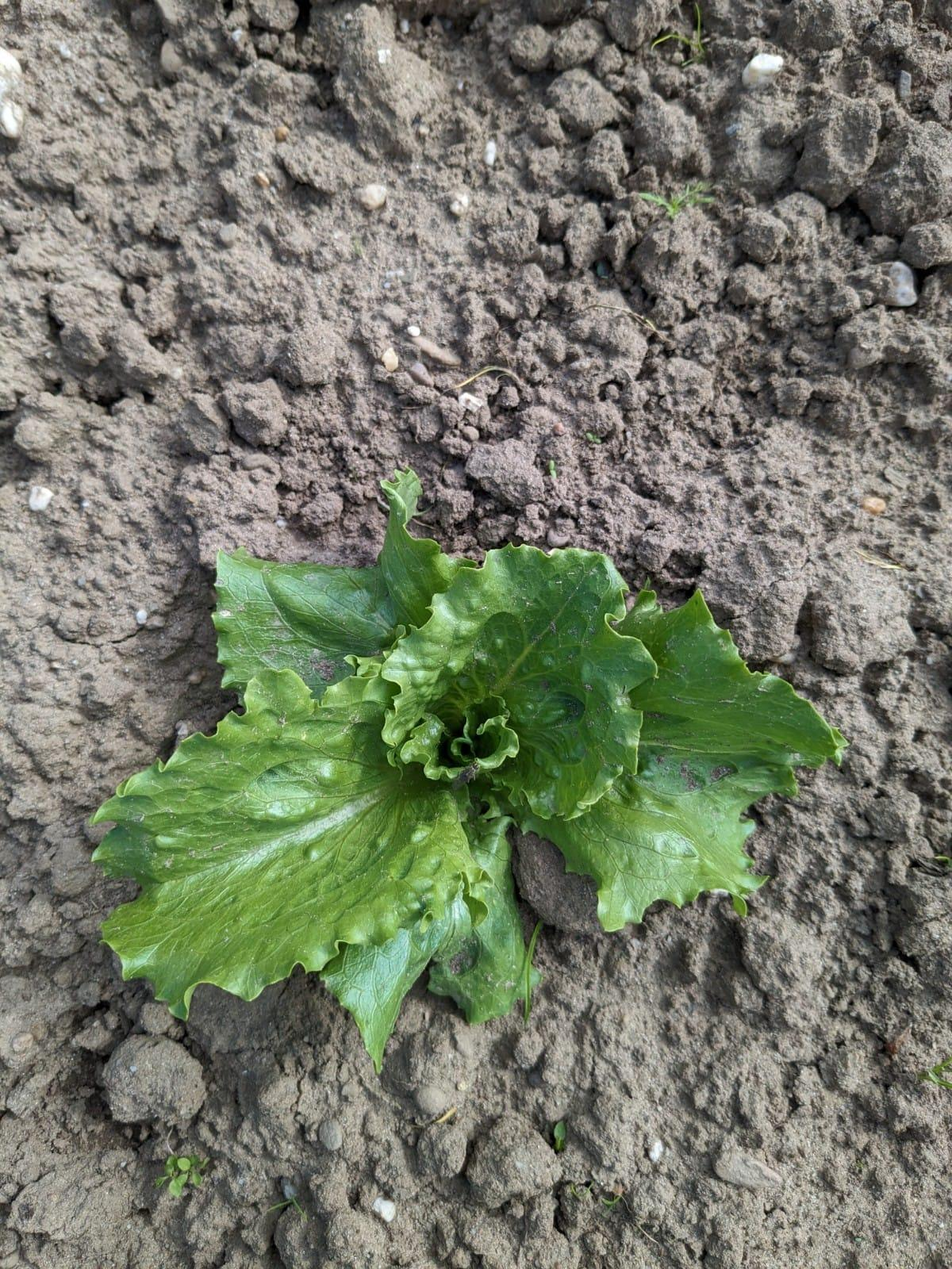Healthy: (93, 470, 844, 1068)
